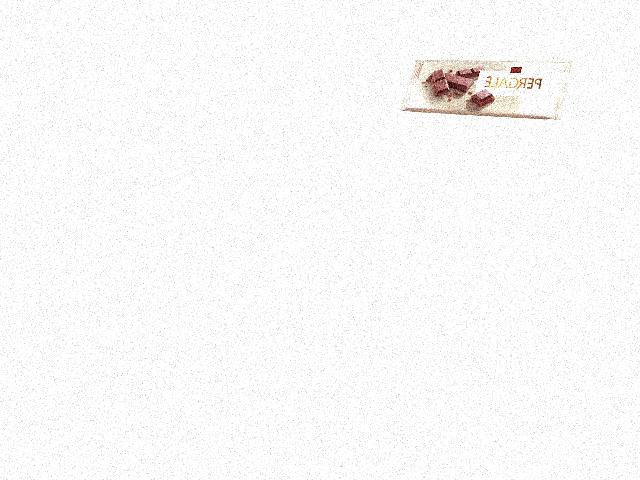chocolate: (396, 60, 574, 118)
